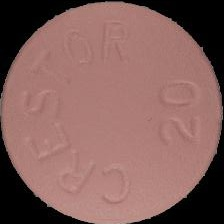55154-6924: (0, 0, 224, 224)
